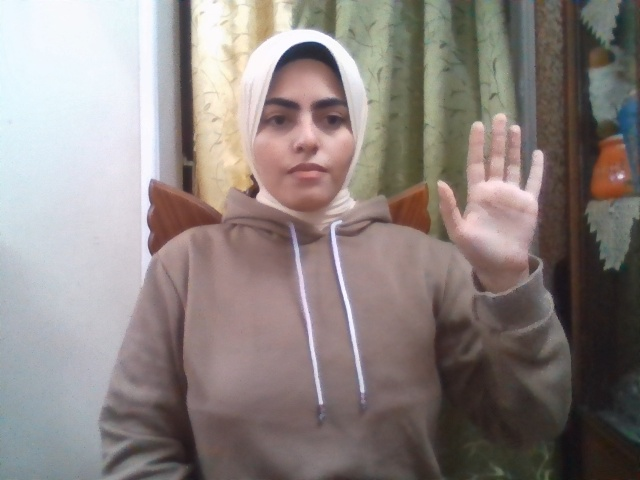hello: (438, 113, 543, 273)
